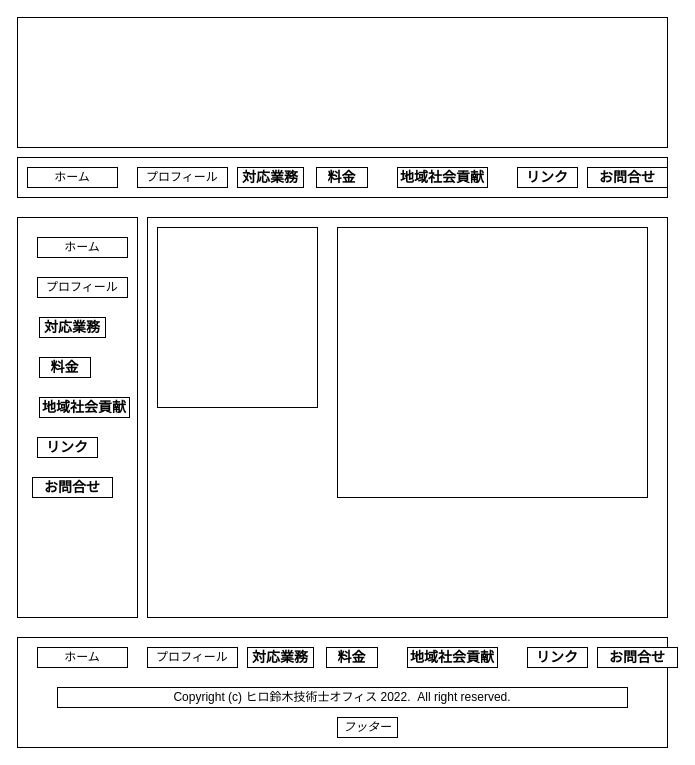
This 695x765 diagram has some shape labels left out. Here are the shapes that lost their labels. From the top down, the centre of each, then its label:
At [342,82]: "ヘッダー".
At [237,317]: "写真".
At [492,362]: "ご挨拶".
